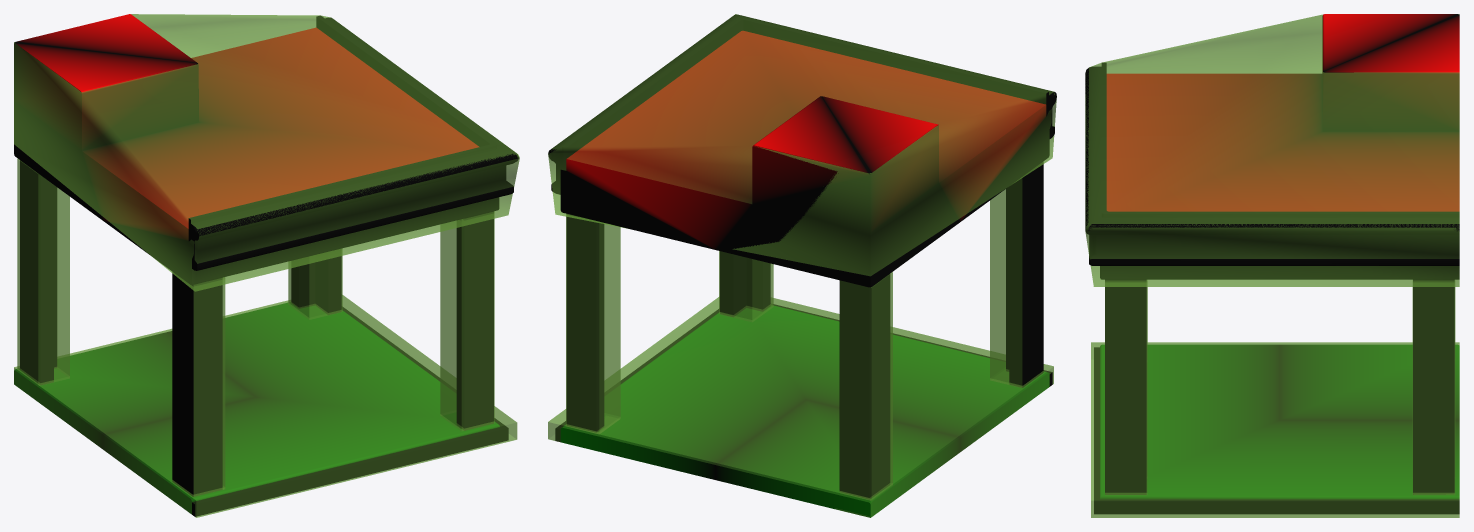
Rendered from M_md_Stall2_90cnr_02.fbx.
3 views of the same model, side by side, from view 1: azimuth 30°, elevation 25°; view 2: azimuth 150°, elevation 25°; view 3: azimuth 270°, elevation 25° (orthographic).
Visible parts, largest first — view 1: M_md_Stall2_90cnr_02_LOD0, M_md_Stall2_90cnr_02_col_06, M_md_Stall2_90cnr_02_col_02, M_md_Stall2_90cnr_02_col_01, M_md_Stall2_90cnr_02_col_05, M_md_Stall2_90cnr_02_col_03, M_md_Stall2_90cnr_02_col_04; view 2: M_md_Stall2_90cnr_02_LOD0, M_md_Stall2_90cnr_02_col_06, M_md_Stall2_90cnr_02_col_02, M_md_Stall2_90cnr_02_col_04, M_md_Stall2_90cnr_02_col_05, M_md_Stall2_90cnr_02_col_03, M_md_Stall2_90cnr_02_col_01; view 3: M_md_Stall2_90cnr_02_LOD0, M_md_Stall2_90cnr_02_col_06, M_md_Stall2_90cnr_02_col_02, M_md_Stall2_90cnr_02_col_04, M_md_Stall2_90cnr_02_col_01.
Part boxes in pixels (x1,y1,x2,y2): M_md_Stall2_90cnr_02_LOD0: (14, 14, 518, 516); M_md_Stall2_90cnr_02_col_06: (14, 14, 519, 291); M_md_Stall2_90cnr_02_col_02: (14, 295, 517, 517); M_md_Stall2_90cnr_02_col_01: (440, 211, 494, 430); M_md_Stall2_90cnr_02_col_05: (17, 158, 69, 385); M_md_Stall2_90cnr_02_col_03: (193, 277, 225, 496); M_md_Stall2_90cnr_02_col_04: (288, 255, 342, 319); M_md_Stall2_90cnr_02_LOD0: (548, 14, 1056, 517); M_md_Stall2_90cnr_02_col_06: (548, 14, 1056, 276); M_md_Stall2_90cnr_02_col_02: (548, 297, 1053, 517); M_md_Stall2_90cnr_02_col_04: (566, 214, 620, 433); M_md_Stall2_90cnr_02_col_05: (840, 272, 892, 500); M_md_Stall2_90cnr_02_col_03: (990, 178, 1022, 387); M_md_Stall2_90cnr_02_col_01: (719, 251, 773, 321); M_md_Stall2_90cnr_02_LOD0: (1085, 14, 1459, 514); M_md_Stall2_90cnr_02_col_06: (1085, 14, 1459, 286); M_md_Stall2_90cnr_02_col_02: (1091, 342, 1459, 517); M_md_Stall2_90cnr_02_col_04: (1412, 280, 1455, 494); M_md_Stall2_90cnr_02_col_01: (1105, 280, 1147, 494).
Size of what is drawn, in the model's own units: 104 by 106 by 104.
